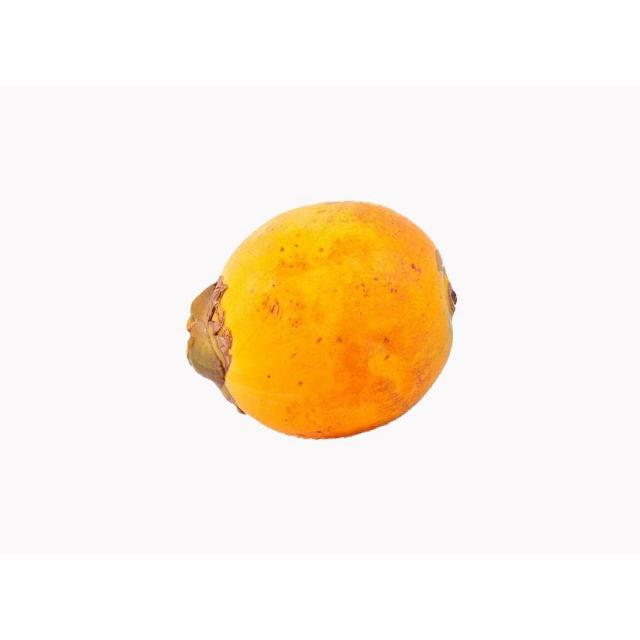good: (185, 201, 457, 442)
